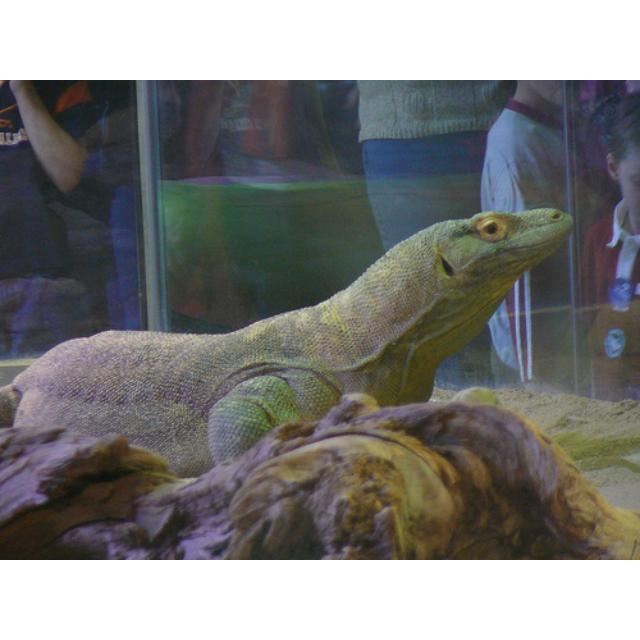KomodoDragon: (1, 207, 574, 478)
